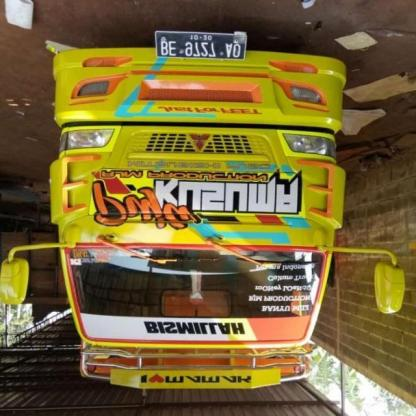truck: (1, 29, 405, 393)
